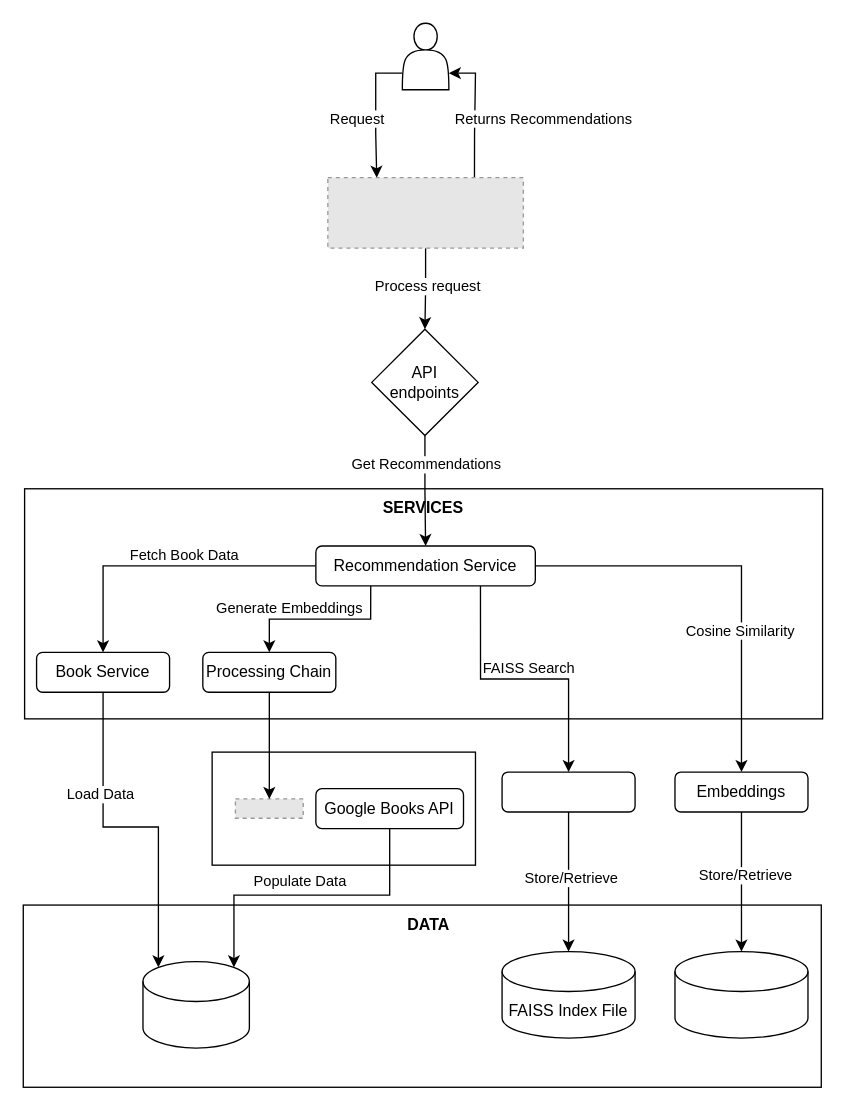
Some shapes in this 846 by 1111 pixel diagram are drawn without their labels. Grey dashed boxes stand in for pictures. The shapes that lost their labels are listed below. From the top down, each one's box as (x1, y1, x2, y2) in pixels, then its label:
(501, 771, 635, 812): FAISS Index
(142, 960, 249, 1048): Book Data
(674, 950, 808, 1038): Embeddings File
